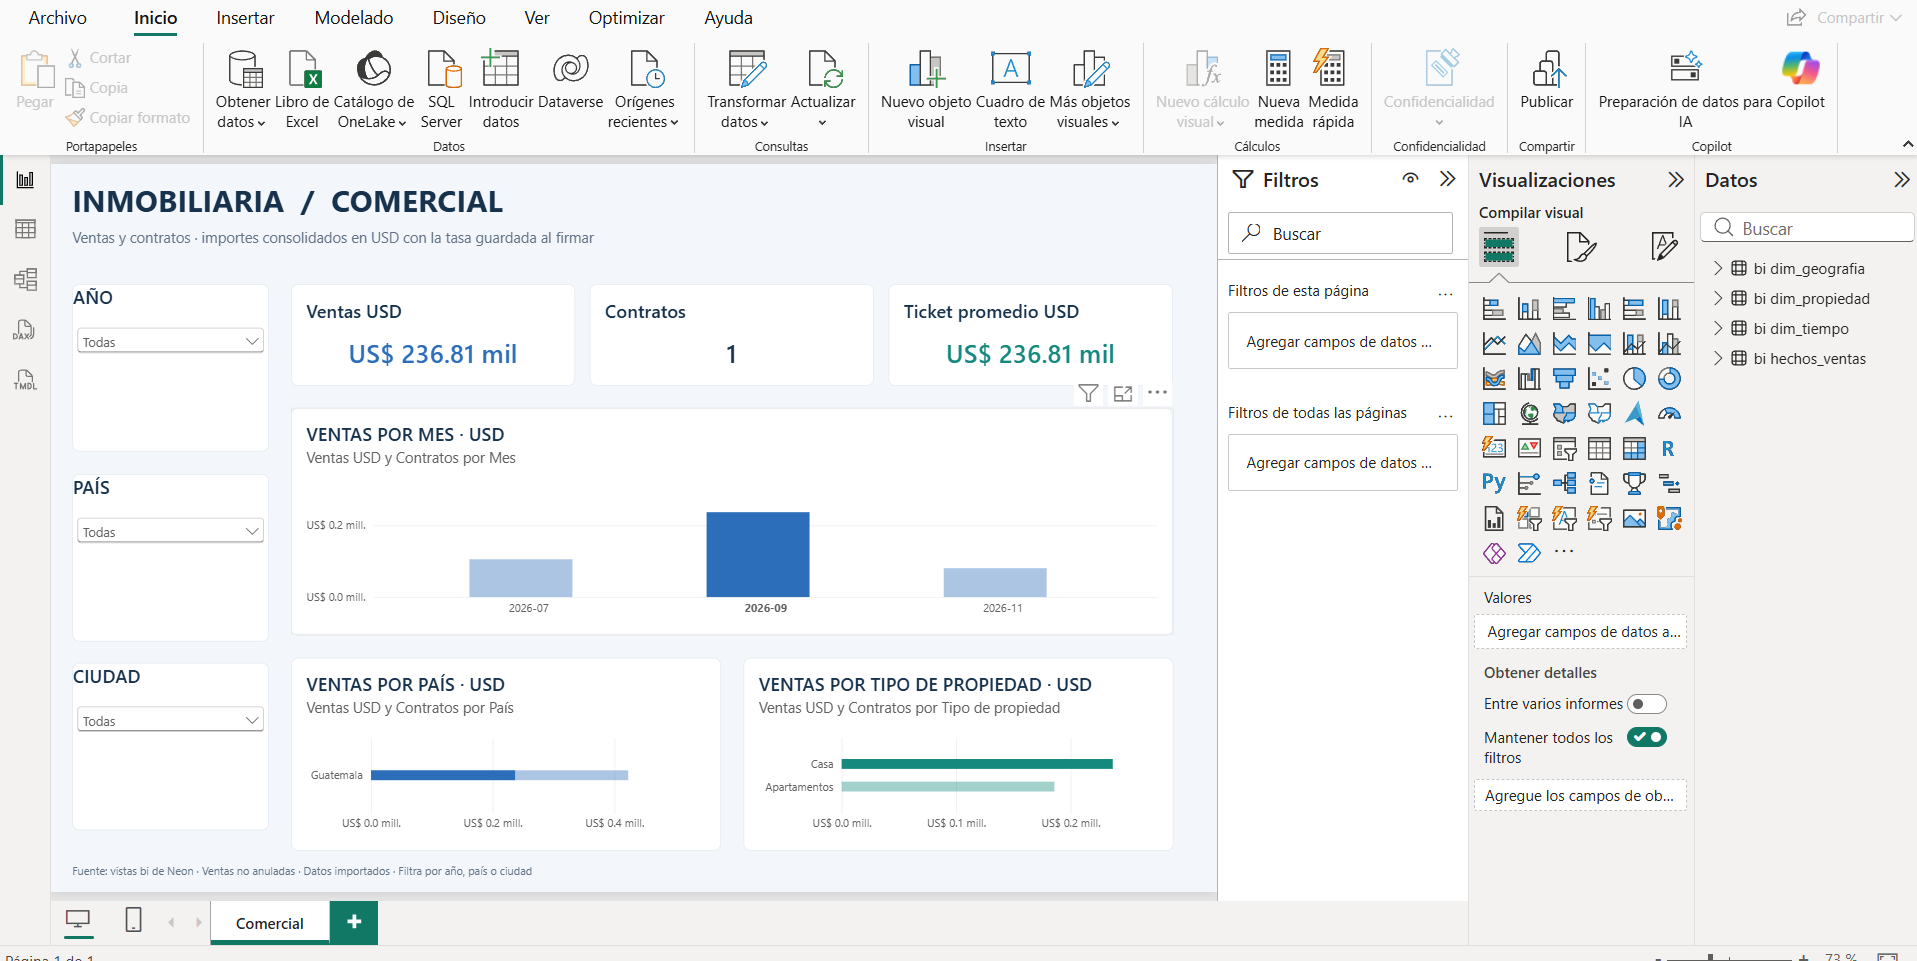

Layout of this report page (visuals, bound fields, positions):
{"tool":"powerbi","page":{"name":"Comercial","canvas":[1280,800],"ordinal":0},"visuals":[{"type":"textbox","box":[24,16,1120,50],"z":0},{"type":"textbox","box":[24,68,1216,40],"z":1000},{"type":"card","title":"Ventas USD","fields":{"Values":["bi hechos_ventas.Ventas USD"]},"box":[264,132,312,112],"z":2000},{"type":"card","title":"Contratos","fields":{"Values":["bi hechos_ventas.Contratos"]},"box":[592,132,312,112],"z":3000},{"type":"card","title":"Ticket promedio USD","fields":{"Values":["bi hechos_ventas.Ticket promedio USD"]},"box":[920,132,312,112],"z":4000},{"type":"clusteredColumnChart","title":"VENTAS POR MES · USD","fields":{"Category":["bi dim_tiempo.anio_mes"],"Y":["bi hechos_ventas.Ventas USD"]},"box":[263.5,255.2,968,250],"z":5000},{"type":"clusteredBarChart","title":"VENTAS POR PAÍS · USD","fields":{"Category":["bi dim_geografia.pais"],"Y":["bi hechos_ventas.Ventas USD"]},"box":[264,542,472,212],"z":6000},{"type":"clusteredBarChart","title":"VENTAS POR TIPO DE PROPIEDAD · USD","fields":{"Category":["bi dim_propiedad.tipo"],"Y":["bi hechos_ventas.Ventas USD"]},"box":[760,542,472,212],"z":7000},{"type":"slicer","title":"AÑO","fields":{"Values":["bi dim_tiempo.anio"]},"box":[24,132,216,184],"z":8000},{"type":"slicer","title":"PAÍS","fields":{"Values":["bi dim_geografia.pais"]},"box":[24,340,216,184],"z":9000},{"type":"slicer","title":"CIUDAD","fields":{"Values":["bi dim_geografia.ciudad"]},"box":[24,548,216,184],"z":10000},{"type":"textbox","box":[24,766,1216,26],"z":11000}]}

Visuals, with their boxes in screenshot pixels (x1, y1, x2, y2):
textbox: [73,44,1404,103]
textbox: [73,106,1518,153]
"Ventas USD" card: [358,182,729,315]
"Contratos" card: [748,182,1119,315]
"Ticket promedio USD" card: [1138,182,1508,315]
"VENTAS POR MES · USD" clusteredColumnChart: [358,328,1508,625]
"VENTAS POR PAÍS · USD" clusteredBarChart: [358,669,919,921]
"VENTAS POR TIPO DE PROPIEDAD · USD" clusteredBarChart: [948,669,1508,921]
"AÑO" slicer: [73,182,330,400]
"PAÍS" slicer: [73,429,330,647]
"CIUDAD" slicer: [73,676,330,894]
textbox: [73,935,1518,960]
